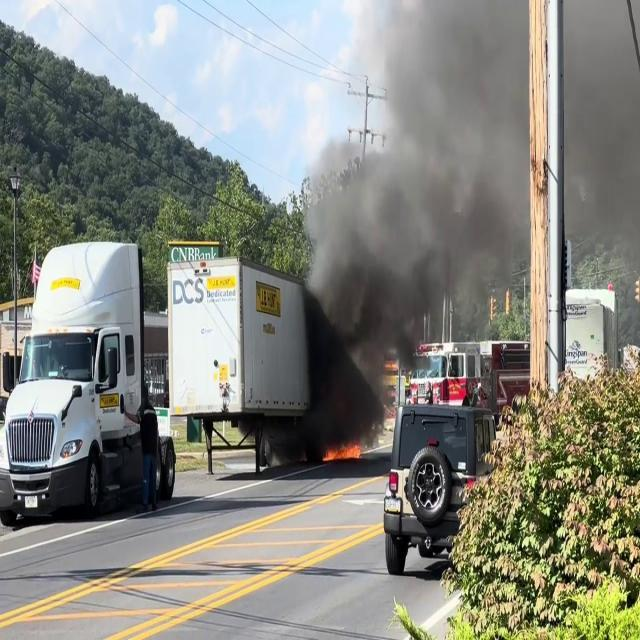Fire: (322, 434, 366, 466)
Smoke: (294, 1, 528, 398), (562, 0, 640, 352)
